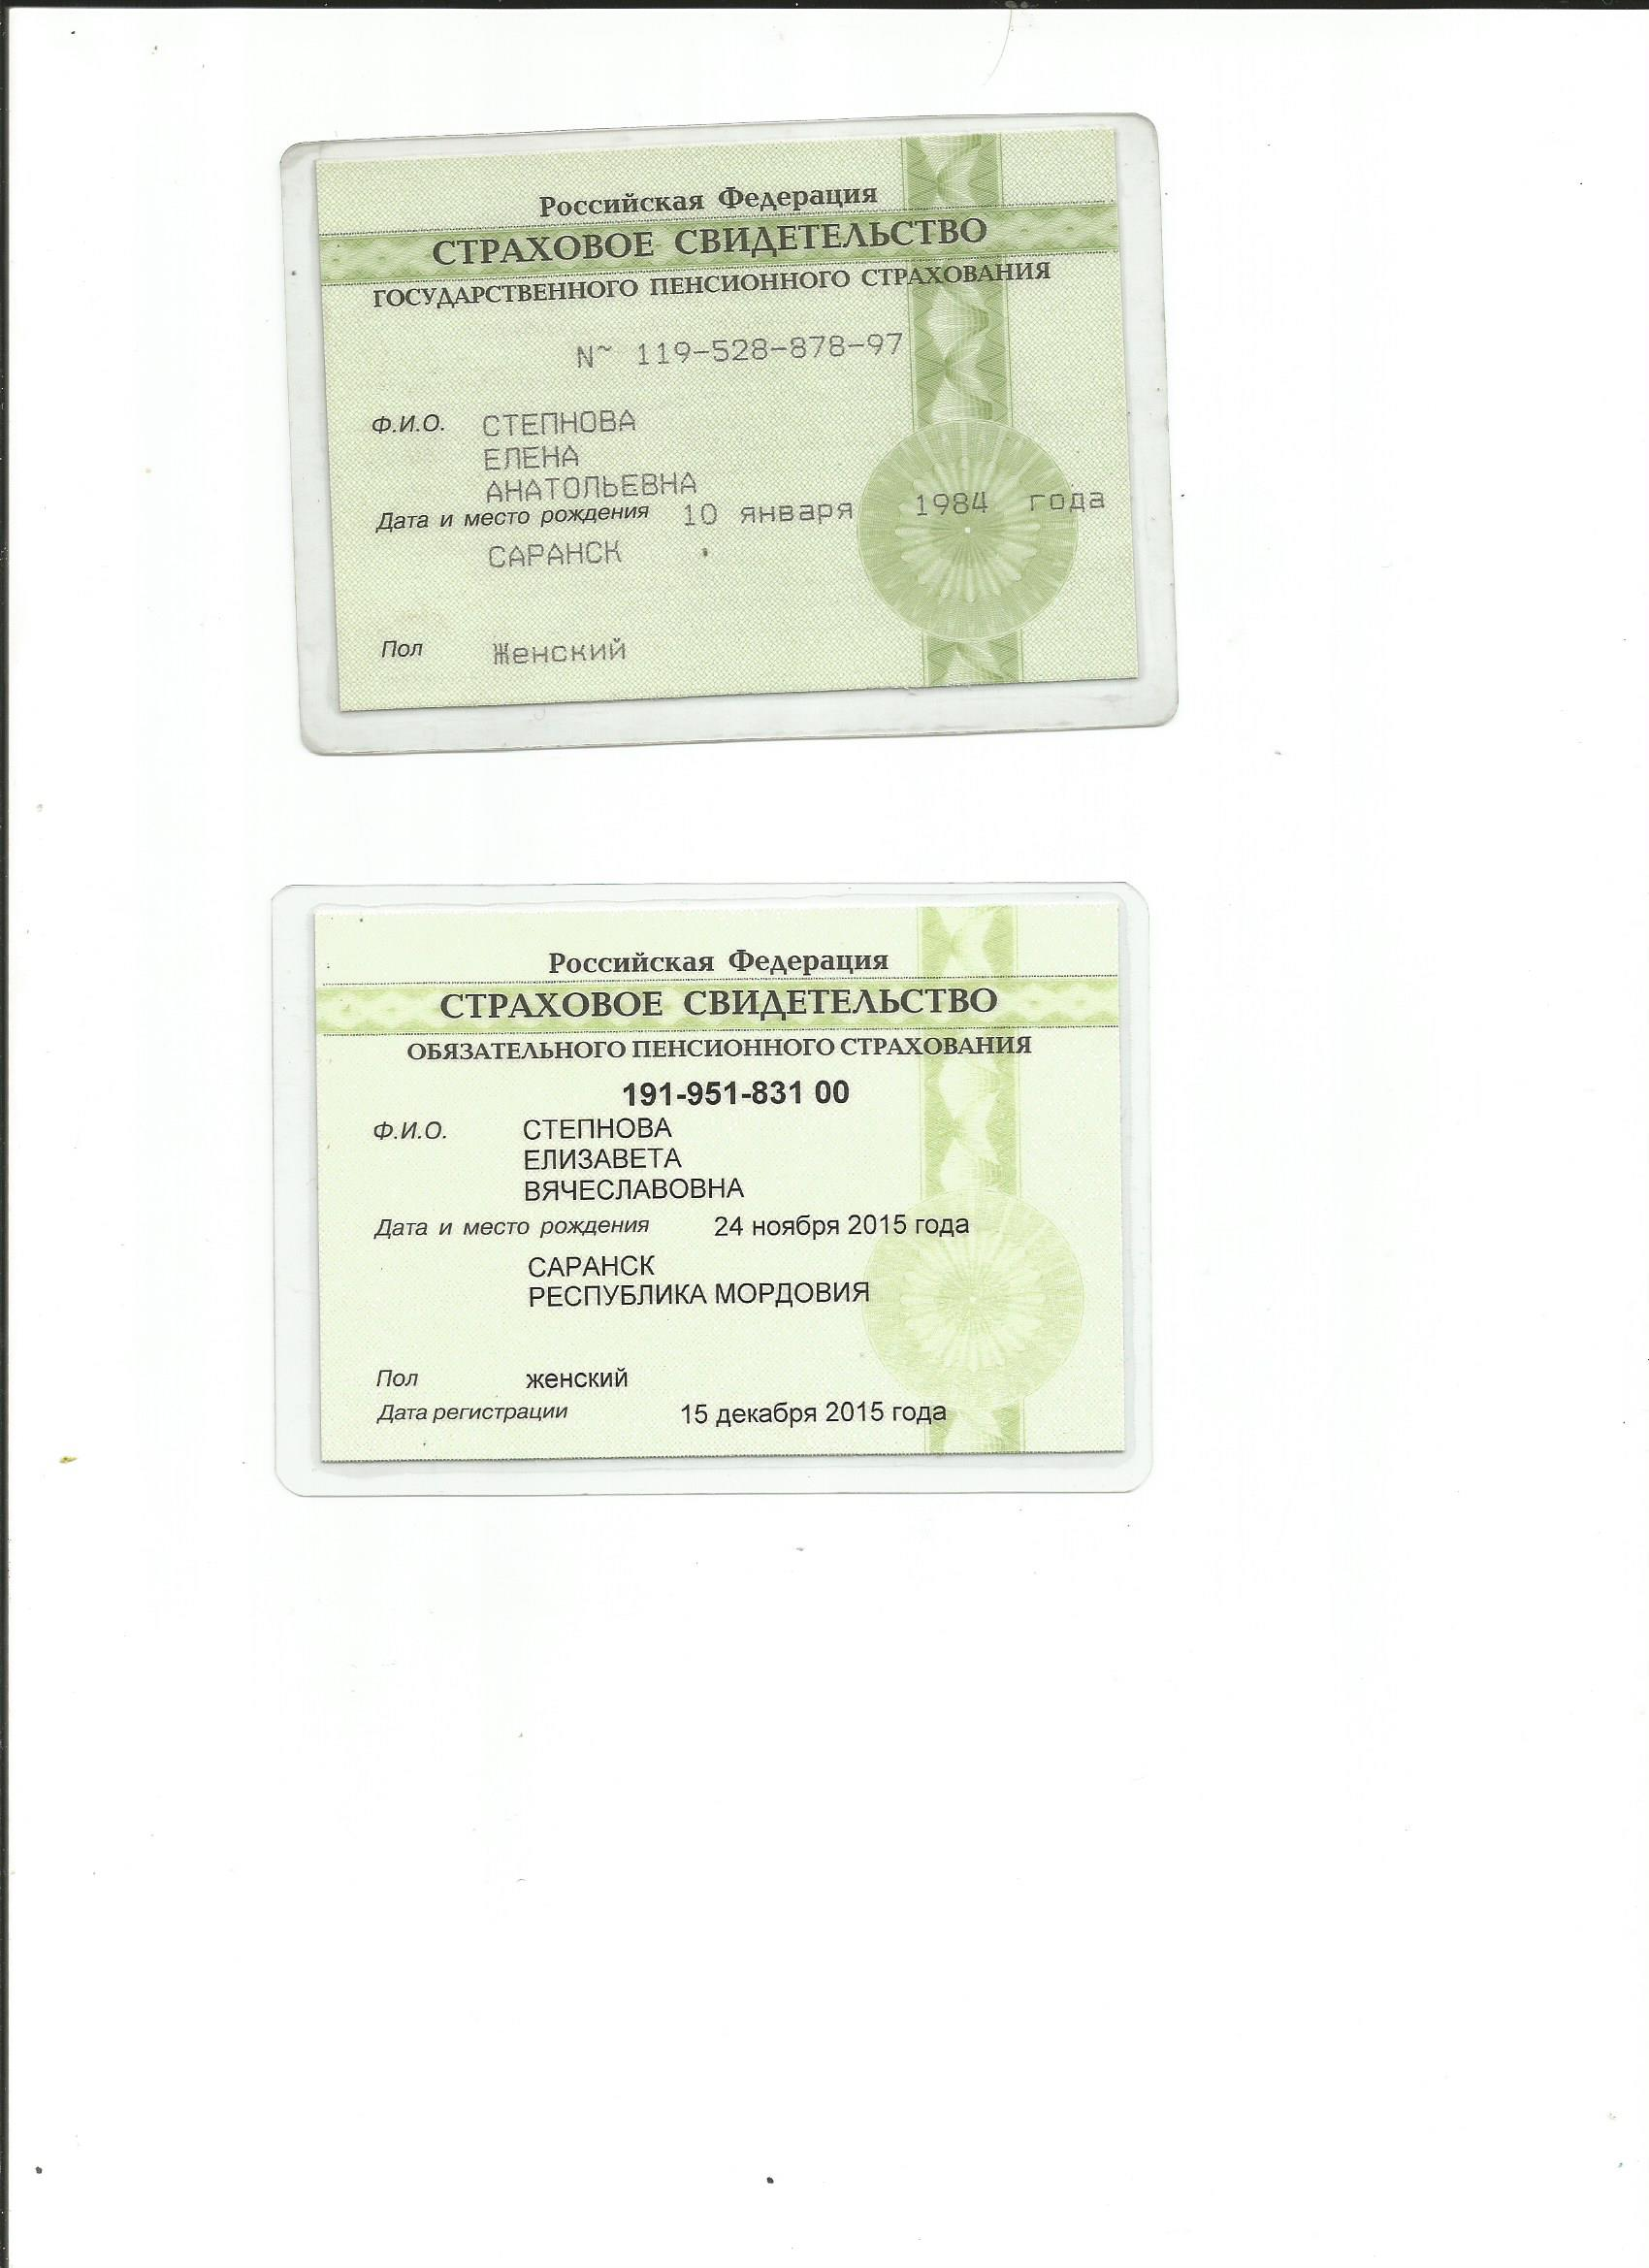text: (679, 484, 1112, 537), (524, 1252, 876, 1307), (627, 329, 913, 370), (480, 465, 699, 504), (683, 1400, 945, 1432), (618, 1076, 859, 1108), (709, 1211, 973, 1238), (516, 1176, 750, 1204), (480, 405, 646, 440), (482, 535, 627, 572), (523, 1111, 678, 1143), (487, 634, 632, 666), (517, 1145, 688, 1171), (519, 1365, 641, 1396), (475, 438, 590, 472)
